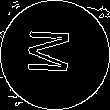M_E: (29, 31, 81, 79)
